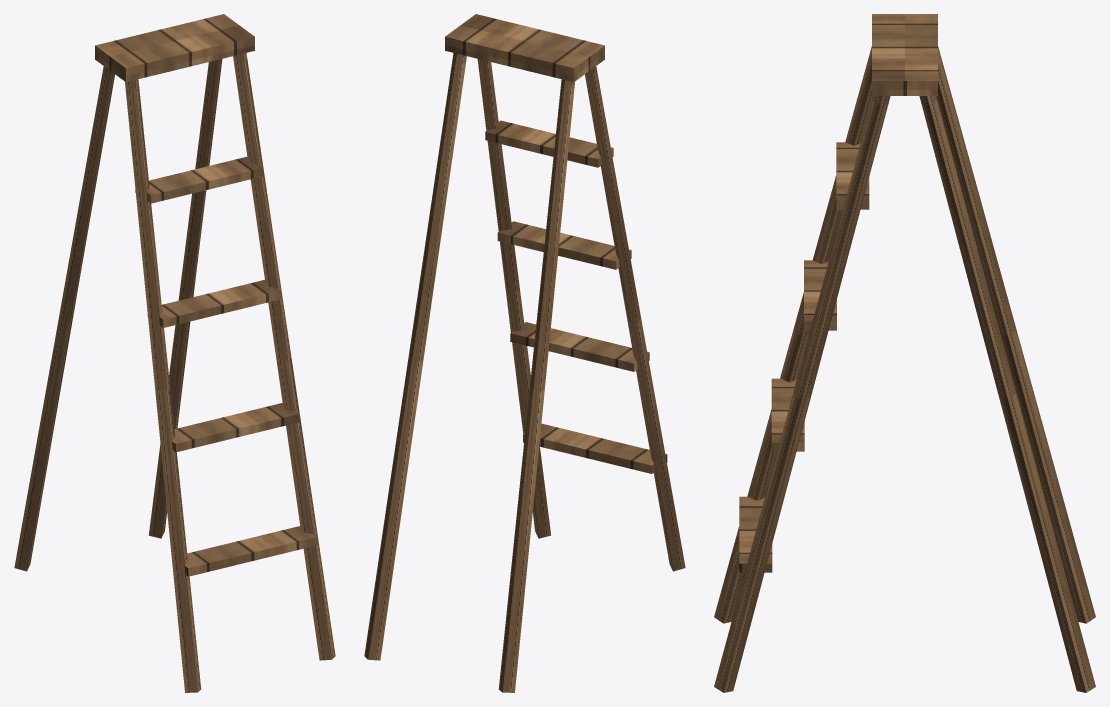
The model's file is Ladder_Wood_1_LOD1.gltf.
3 renders of one model, left to right at view 1: azimuth 30°, elevation 25°; view 2: azimuth 150°, elevation 25°; view 3: azimuth 270°, elevation 25°, orthographic. The views are drawn at different scales.
Visible parts, largest first — view 1: Ladder_Wood_1_LOD1; view 2: Ladder_Wood_1_LOD1; view 3: Ladder_Wood_1_LOD1.
Boxes of the visible parts, x1,y1,x2,y2 form: Ladder_Wood_1_LOD1: (14, 14, 335, 692); Ladder_Wood_1_LOD1: (364, 14, 685, 692); Ladder_Wood_1_LOD1: (714, 14, 1095, 692).
Bounding box in the file's own units: 0.56 × 2.04 × 1.16.
1 material, 1 textured.
